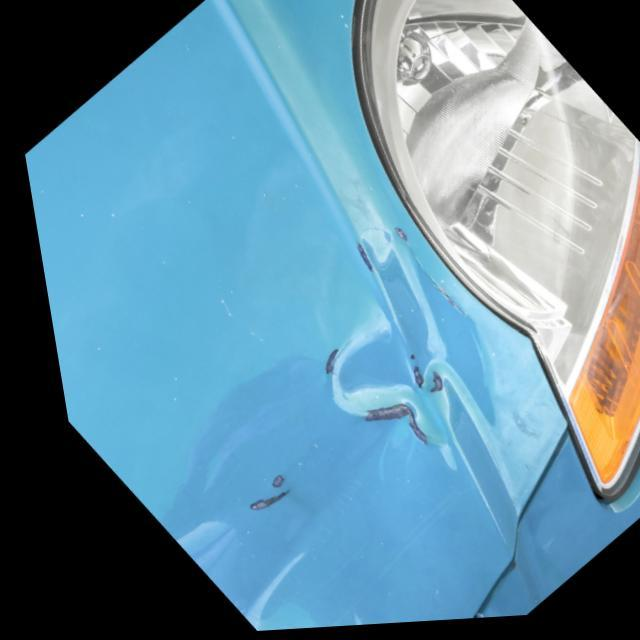dent: (148, 243, 486, 633)
